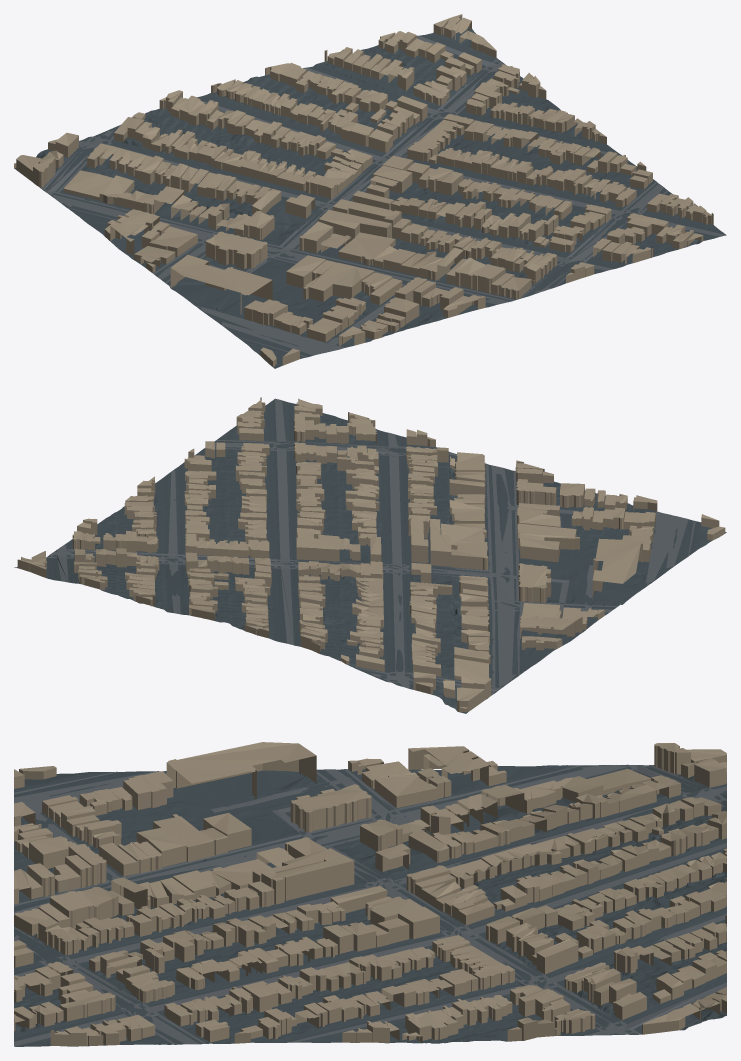
File: epsg26910-1431-10872.lod0.glb
The picture shows the model from 3 angles, top to bottom: view 1: azimuth 30°, elevation 25°; view 2: azimuth 150°, elevation 25°; view 3: azimuth 270°, elevation 25°; orthographic projection. The views are drawn at different scales.
Parts seen in each view (by area): view 1: epsg26910-1431-10872-lod0; view 2: epsg26910-1431-10872-lod0; view 3: epsg26910-1431-10872-lod0.
Part boxes in pixels (bbox=[...]): epsg26910-1431-10872-lod0: bbox=[14, 14, 726, 368]; epsg26910-1431-10872-lod0: bbox=[14, 397, 726, 713]; epsg26910-1431-10872-lod0: bbox=[14, 742, 726, 1046].
Bounding box in the file's own units: 384 × 44.28 × 384.
